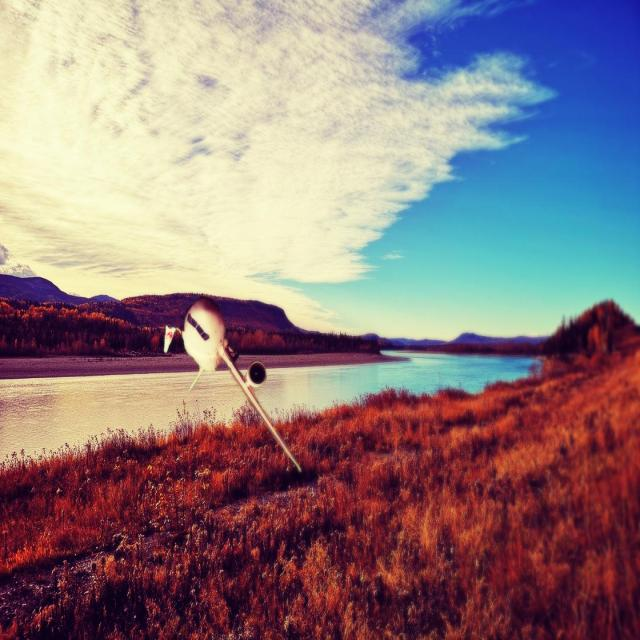airplane: (179, 296, 302, 474)
